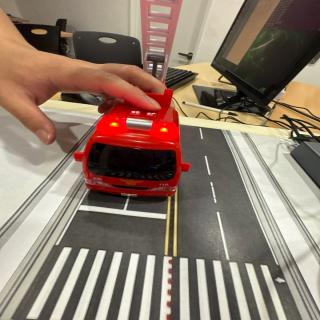Fire_truck: (74, 89, 190, 196)
